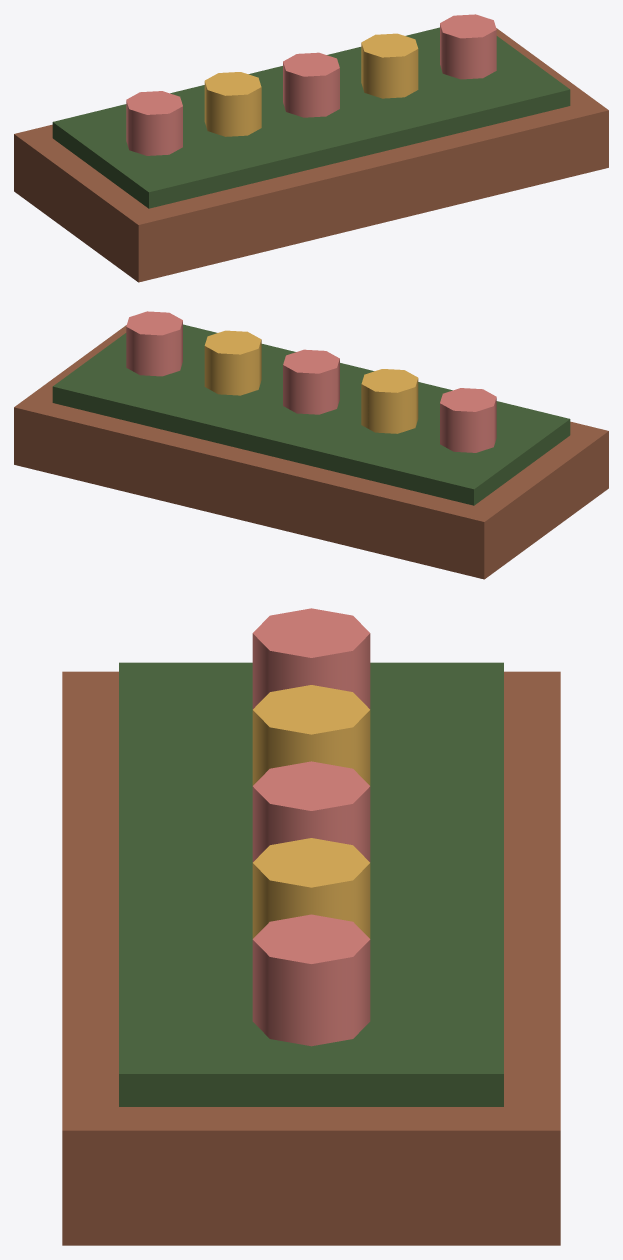
File: flower_bed.glb
3 views of the same model, one above another, from view 1: azimuth 30°, elevation 25°; view 2: azimuth 150°, elevation 25°; view 3: azimuth 270°, elevation 25° (orthographic). The views are drawn at different scales.
Parts seen in each view (by area): view 1: _MeshInstance3D_90, _MeshInstance3D_91, _MeshInstance3D_95, _MeshInstance3D_93, _MeshInstance3D_94, _MeshInstance3D_96, _MeshInstance3D_92; view 2: _MeshInstance3D_90, _MeshInstance3D_91, _MeshInstance3D_95, _MeshInstance3D_93, _MeshInstance3D_94, _MeshInstance3D_96, _MeshInstance3D_92; view 3: _MeshInstance3D_91, _MeshInstance3D_90, _MeshInstance3D_96, _MeshInstance3D_93, _MeshInstance3D_95, _MeshInstance3D_92, _MeshInstance3D_94.
Boxes of the visible parts, bbox=[...] form: _MeshInstance3D_90: bbox=[14, 28, 608, 282]; _MeshInstance3D_91: bbox=[52, 27, 570, 208]; _MeshInstance3D_95: bbox=[361, 33, 418, 98]; _MeshInstance3D_93: bbox=[204, 72, 261, 136]; _MeshInstance3D_94: bbox=[283, 52, 339, 117]; _MeshInstance3D_96: bbox=[440, 14, 496, 79]; _MeshInstance3D_92: bbox=[126, 91, 182, 155]; _MeshInstance3D_90: bbox=[14, 325, 608, 579]; _MeshInstance3D_91: bbox=[52, 324, 570, 505]; _MeshInstance3D_95: bbox=[204, 330, 261, 395]; _MeshInstance3D_93: bbox=[361, 369, 418, 433]; _MeshInstance3D_94: bbox=[283, 349, 339, 414]; _MeshInstance3D_96: bbox=[126, 311, 182, 376]; _MeshInstance3D_92: bbox=[440, 388, 496, 452]; _MeshInstance3D_91: bbox=[119, 662, 503, 1106]; _MeshInstance3D_90: bbox=[62, 671, 560, 1245]; _MeshInstance3D_96: bbox=[252, 914, 370, 1046]; _MeshInstance3D_93: bbox=[252, 685, 370, 785]; _MeshInstance3D_95: bbox=[252, 838, 370, 938]; _MeshInstance3D_92: bbox=[252, 608, 370, 709]; _MeshInstance3D_94: bbox=[252, 761, 370, 862].
Bounding box in the file's own units: 2.4 × 0.56 × 1.1.
